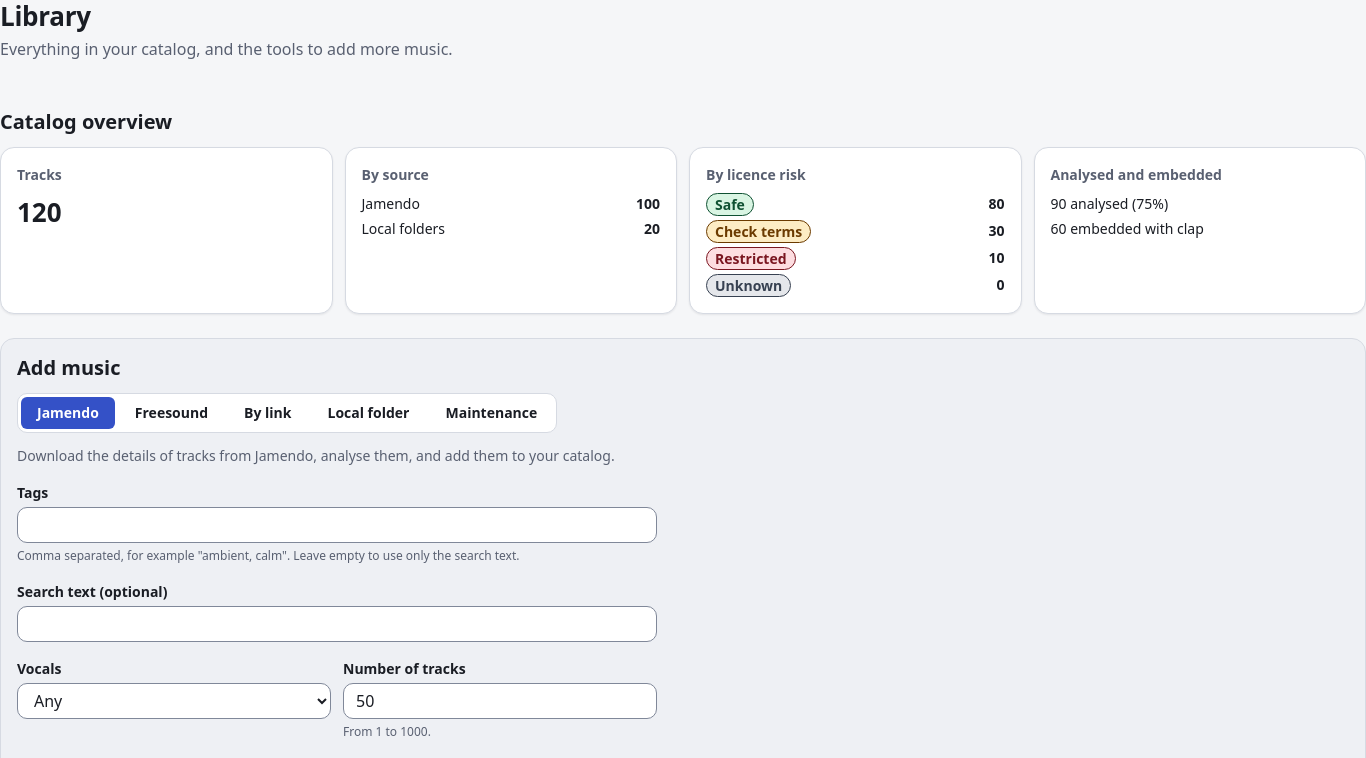
it: Library jobs › shows the detail when maintenance cannot start (503)
Click the tab "Maintenance": (491, 412) top-left (430, 396), bottom-right (553, 428)
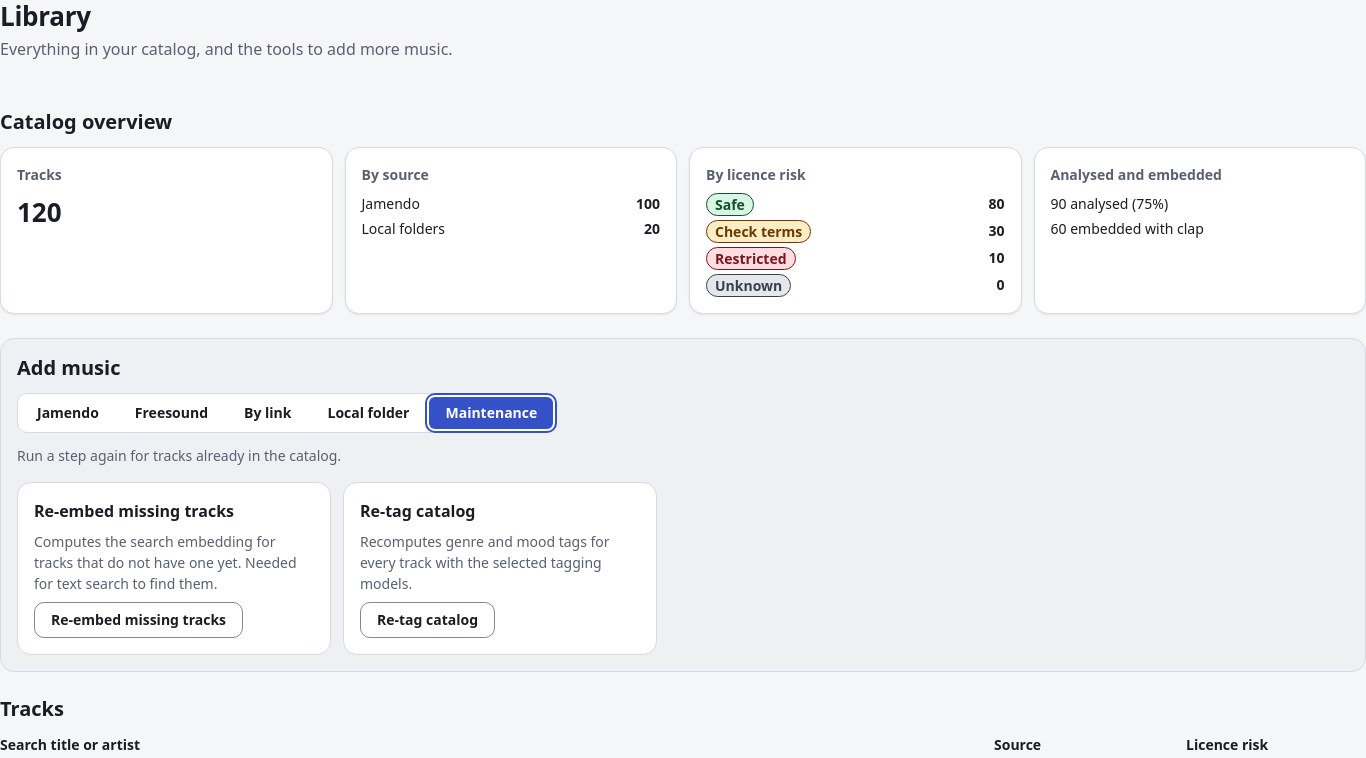
Click the button "Re-embed missing tracks": (138, 620) top-left (34, 602), bottom-right (243, 638)
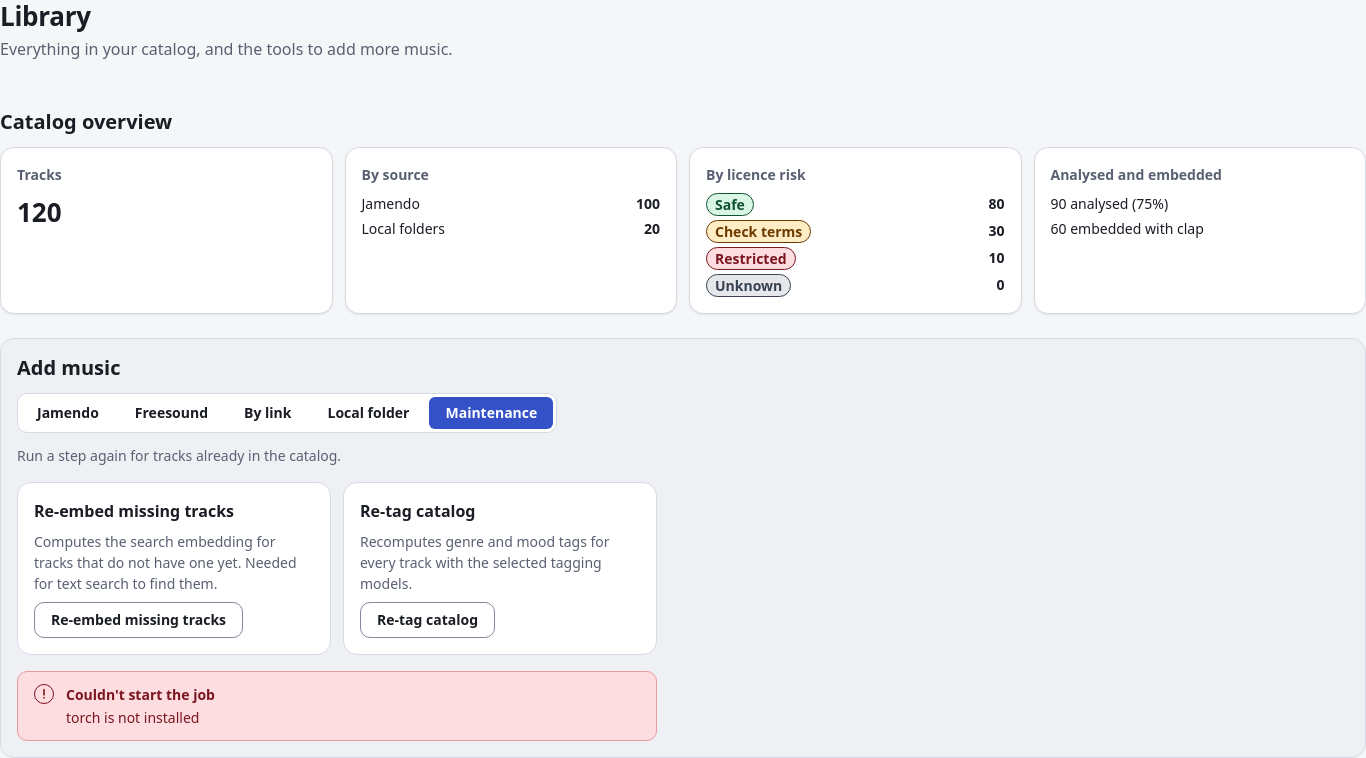
Check: the message shows "torch is not installed", box top-left (66, 708), bottom-right (199, 726)
